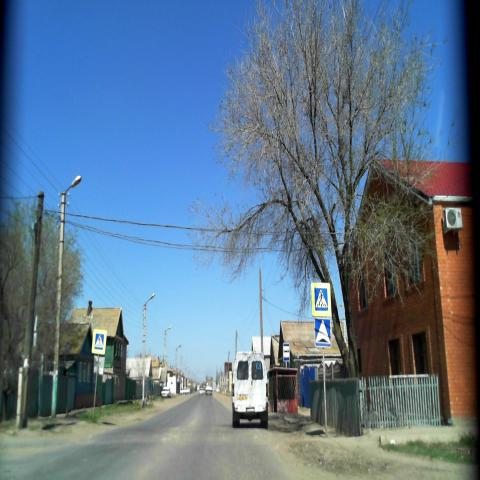5_16: (283, 341, 290, 362)
5_19_1: (312, 282, 332, 316), (91, 329, 107, 355)
5_20: (314, 316, 332, 348)
